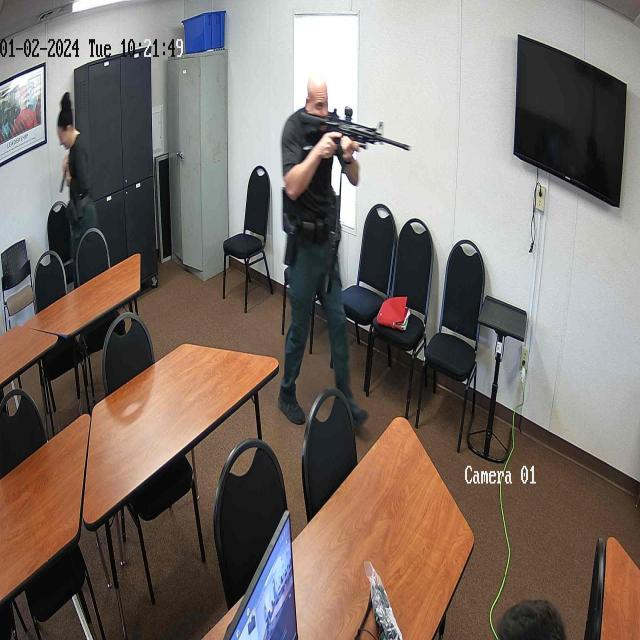weapon: (302, 103, 411, 164), (283, 214, 298, 264), (59, 162, 69, 192)
